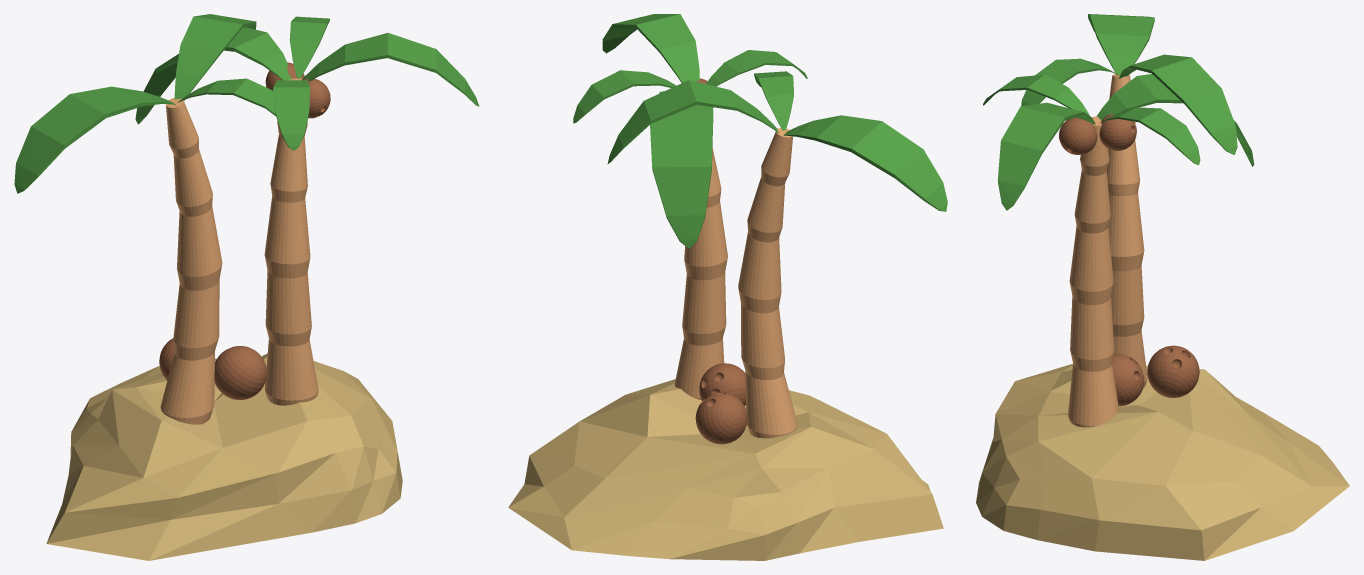
The model's file is TestPalm.glb.
The picture shows the model from 3 angles, left to right: view 1: azimuth 30°, elevation 25°; view 2: azimuth 150°, elevation 25°; view 3: azimuth 270°, elevation 25°; orthographic projection. The views are drawn at different scales.
Visible parts, largest first — view 1: baked; view 2: baked; view 3: baked.
Part boxes in pixels (bbox=[...]): baked: bbox=[14, 14, 479, 560]; baked: bbox=[508, 14, 947, 560]; baked: bbox=[976, 14, 1349, 560].
Bounding box in the file's own units: 8.25 × 8.44 × 6.77.
